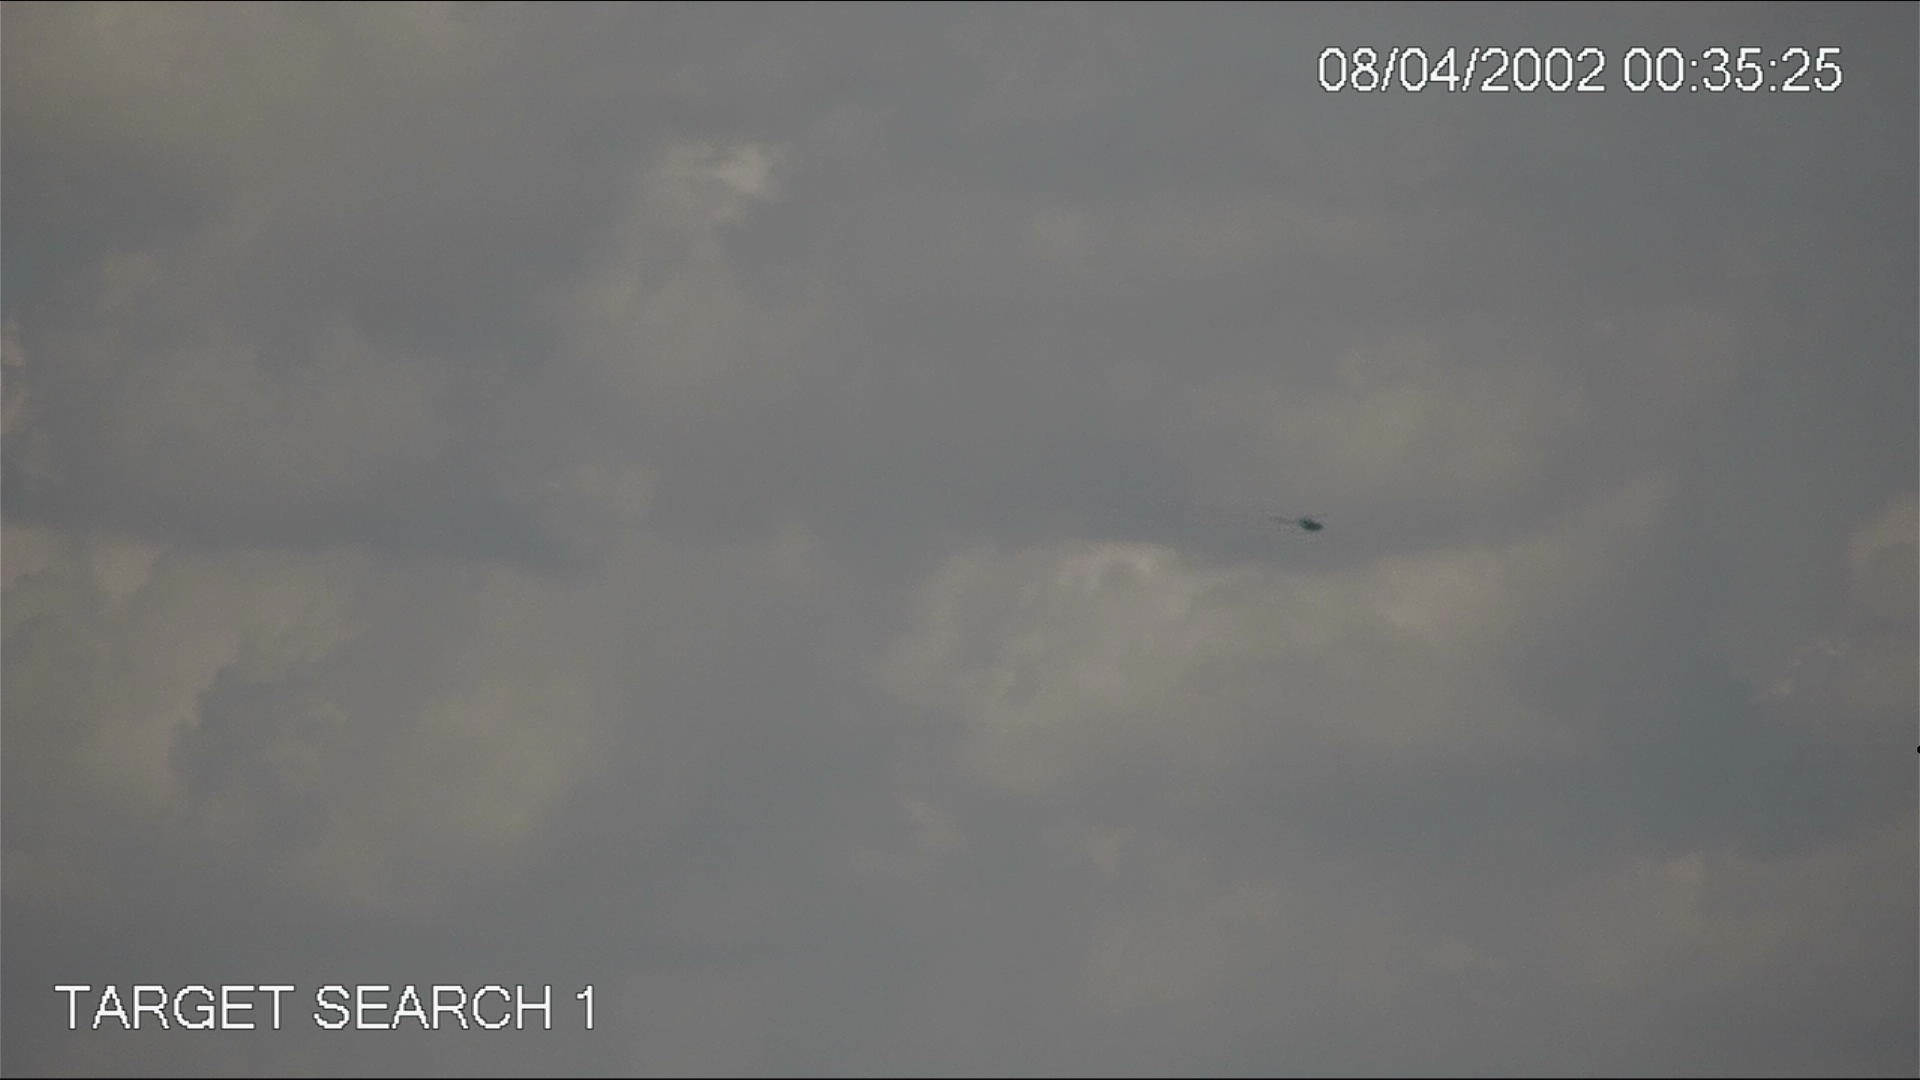SU_30: (1273, 510, 1331, 533)
